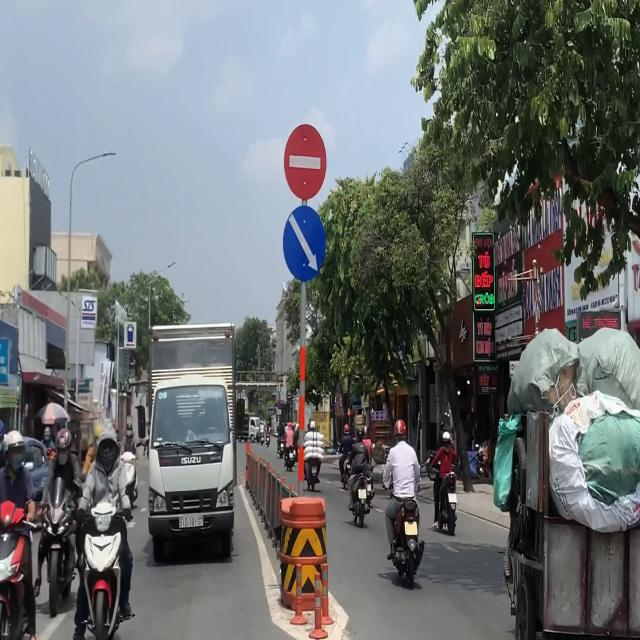Cam nguoc chieu: (282, 122, 328, 205)
Hieu lenh: (280, 203, 328, 286)
